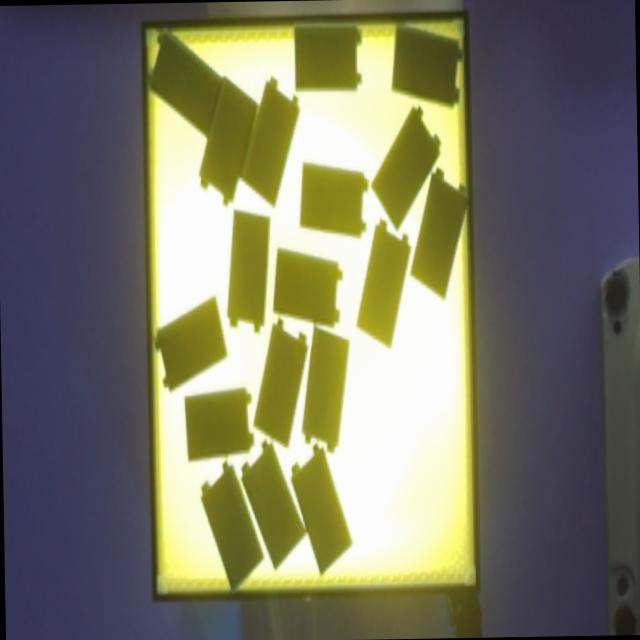bateria: (371, 105, 440, 229), (240, 441, 304, 569), (200, 460, 263, 590), (291, 442, 353, 574), (147, 28, 221, 135), (198, 78, 258, 207), (411, 169, 468, 298), (243, 76, 299, 206), (356, 219, 411, 347), (154, 296, 227, 391), (253, 318, 307, 446), (301, 327, 349, 452), (393, 25, 462, 105), (274, 247, 342, 326), (300, 161, 368, 236), (228, 210, 270, 331), (184, 387, 253, 459), (293, 21, 361, 92)
mesa: (140, 11, 479, 602)
